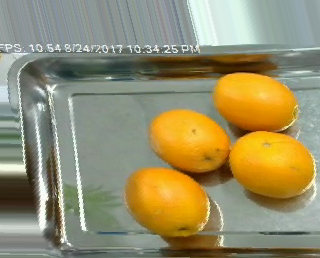Orange: (122, 167, 210, 238), (228, 130, 316, 198), (147, 109, 230, 173), (212, 72, 298, 132)
